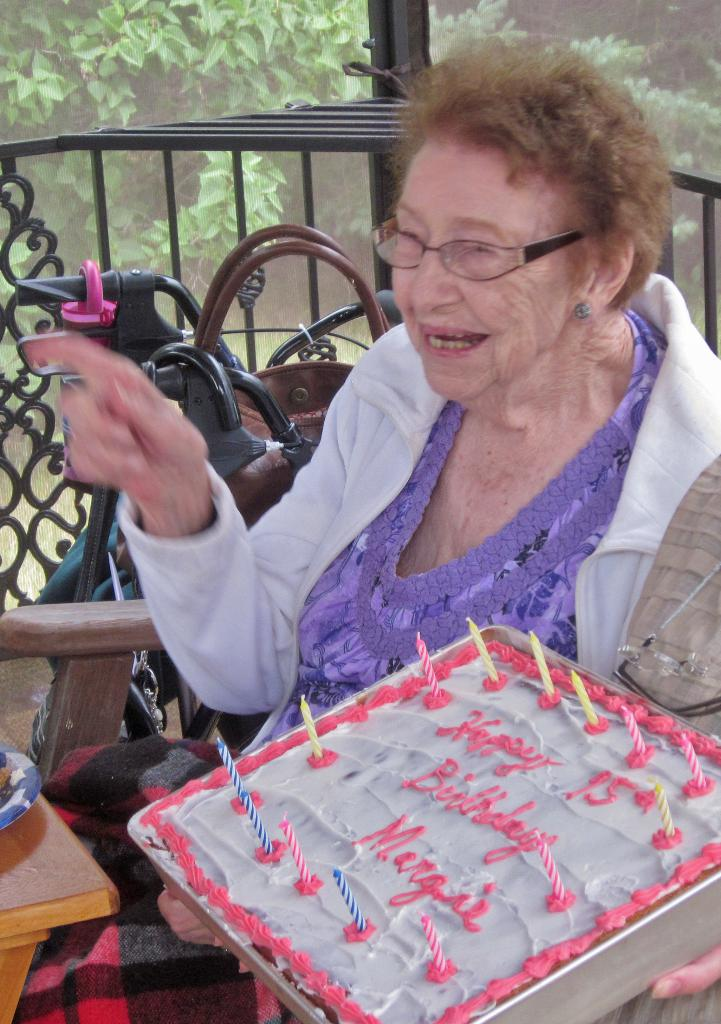cake: (120, 641, 720, 1023)
